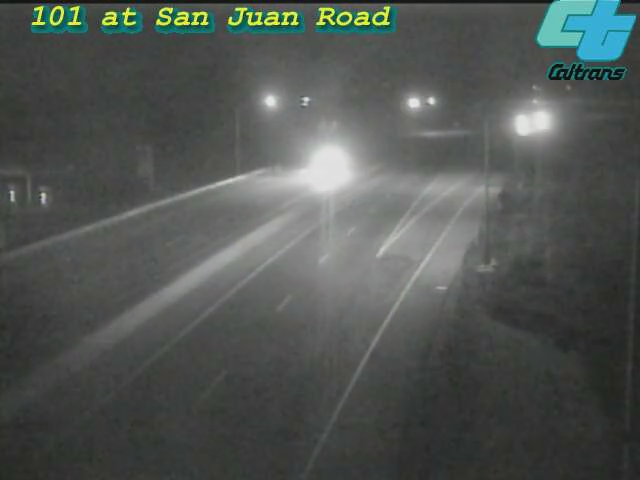vehicle: (283, 123, 363, 203), (500, 107, 550, 157), (496, 96, 546, 146), (513, 96, 563, 146)
